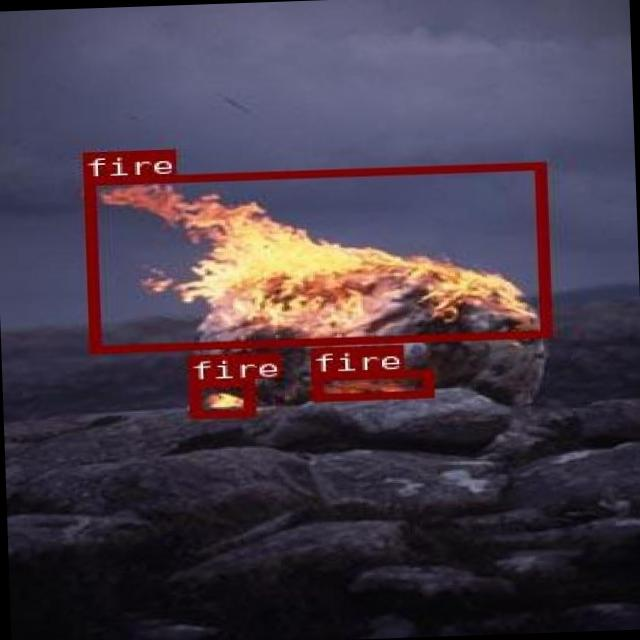fire: (81, 160, 548, 352), (310, 368, 432, 399), (187, 378, 252, 418)
